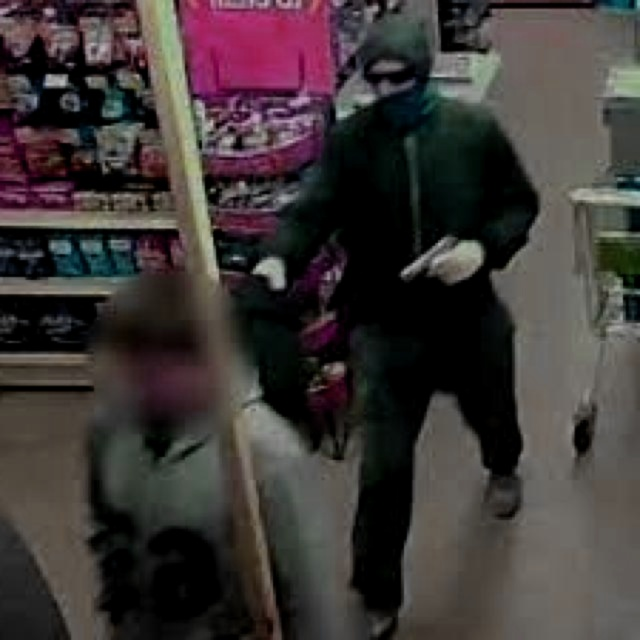gun: (396, 217, 483, 297)
